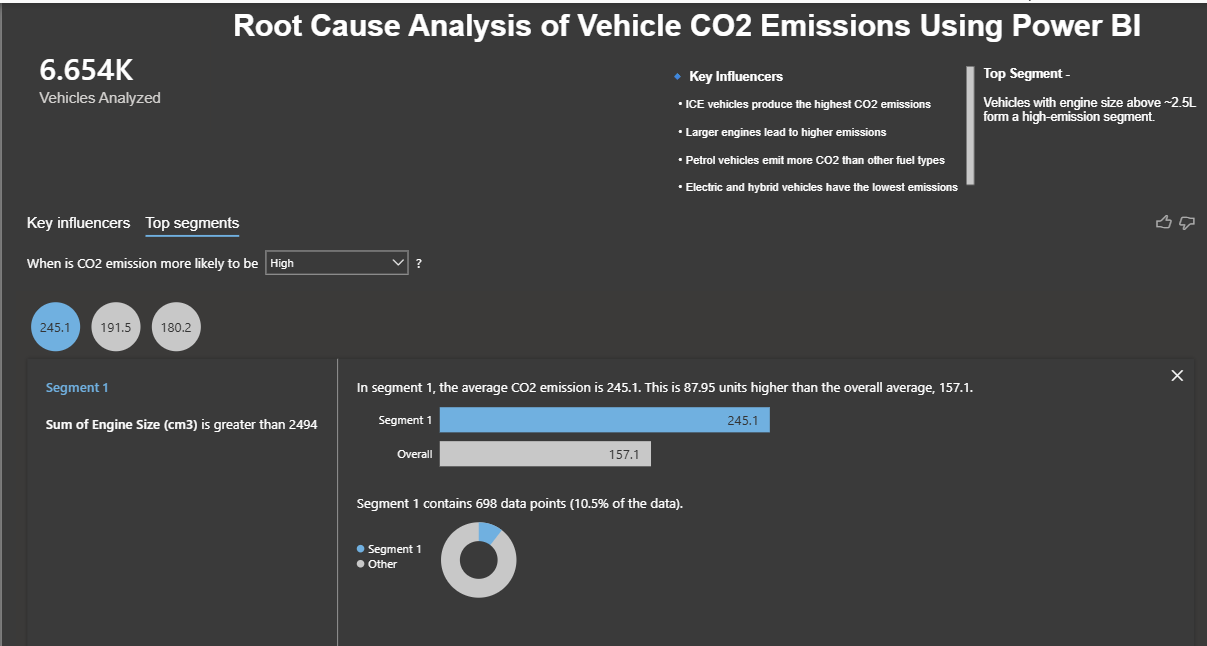

The dashboard page shown, as its layout file describes it:
{"tool":"powerbi","page":{"name":"Key Insights & Drivers","canvas":[1280,720],"ordinal":0},"visuals":[{"type":"cardVisual","fields":{"Data":["CountNonNull(Vehicles.car_id)"]},"box":[9.7,0,229.9,155.4],"z":0},{"type":"keyDriversVisual","fields":{"Target":["Vehicles.CO2 emission"],"ExplainBy":["Sum(Vehicles.Engine Size (cm3))","Vehicles.Fuel Type","Vehicles.Powertrain","Vehicles.Transmission"]},"box":[9.4,209.8,1271.8,510.2],"z":1000},{"type":"textbox","box":[239.6,0,1041.2,63.1],"z":2000},{"type":"textbox","box":[701.1,62.4,334.5,147.4],"z":3000},{"type":"textbox","box":[1035.6,62.4,243.8,132.3],"z":4000}]}

Visuals, with their boxes on the page's 1280x720 design canvas (x1, y1, x2, y2). These are canvas units, not pixel positions in the 1207x646 screenshot, which may show the page scaled, cropped or inside an application window:
cardVisual - CountNonNull(Vehicles.car_id): bbox(10, 0, 240, 155)
keyDriversVisual - Vehicles.CO2 emission x Sum(Vehicles.Engine Size (cm3)): bbox(9, 210, 1281, 720)
textbox: bbox(240, 0, 1281, 63)
textbox: bbox(701, 62, 1036, 210)
textbox: bbox(1036, 62, 1279, 195)
